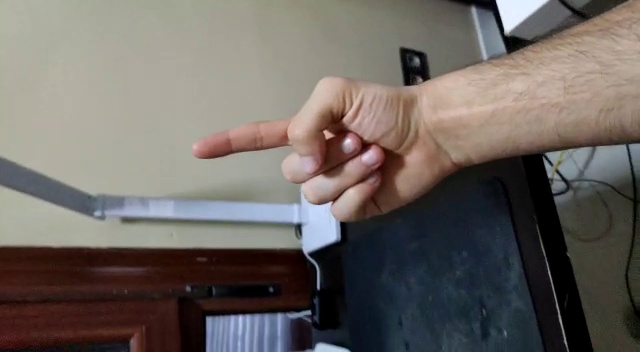One: (179, 104, 453, 194)
